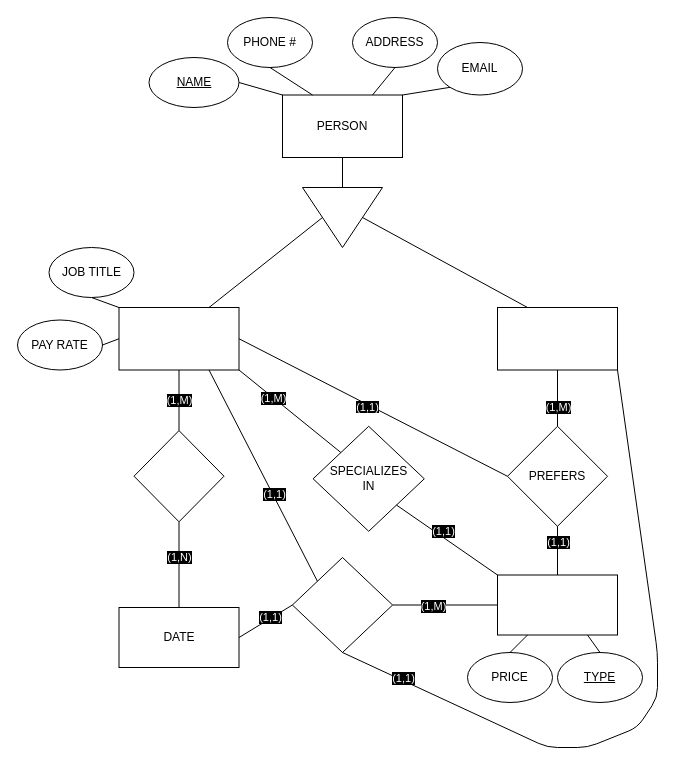
Some shapes in this 676 by 766 pixel diagram are drawn without their labels. The box of each missing label's shape, as (x1, y1, x2, y2) in pixels:
APPOINTMENT: (291, 556, 393, 652)
CLIENT: (496, 306, 618, 370)
EMPLOYEE: (118, 306, 239, 370)
GO: (302, 186, 382, 248)
SCHEDULED: (133, 430, 224, 522)
SERVICE: (496, 574, 618, 635)
